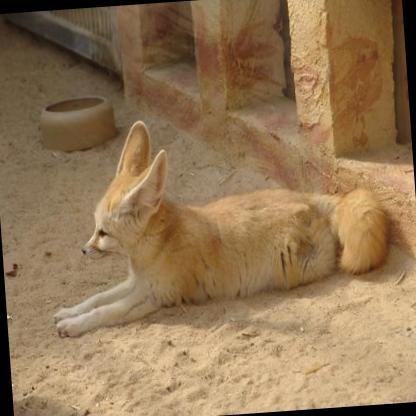dhole: (41, 101, 391, 335)
